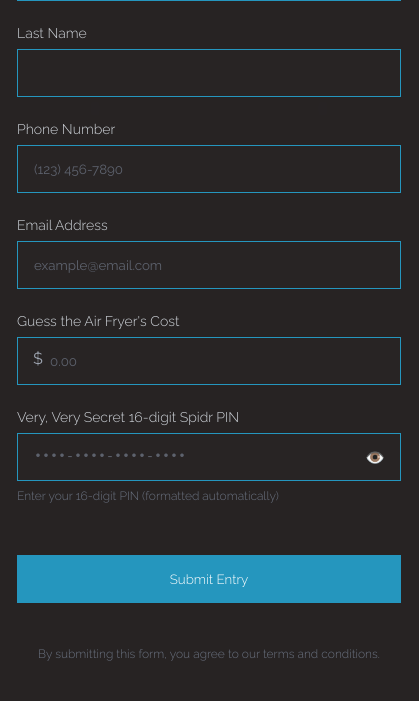
SpidrForm Component › Email Validation › clears email error when user starts typing
(page scrolled)
// First trigger the error
Click the button "Submit Entry". click: click(209, 579)
box: [17,555,401,603]
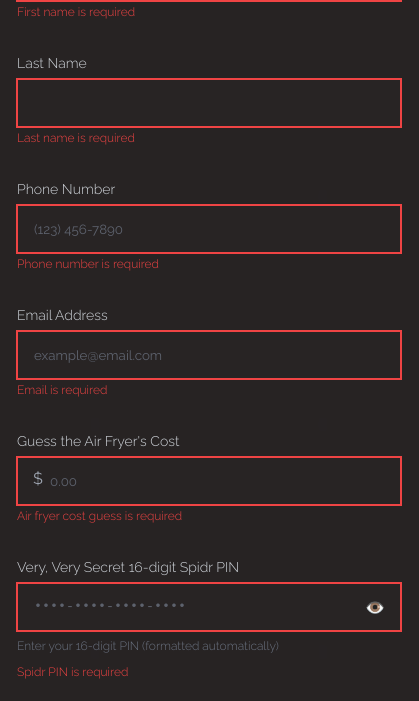
Now the text "Email is required" is shown, box [17,383,107,397]
// Then start typing to clear the error
Type "t" into the field labelled "Email Address". click: (209, 355)
box: [17,331,401,379]
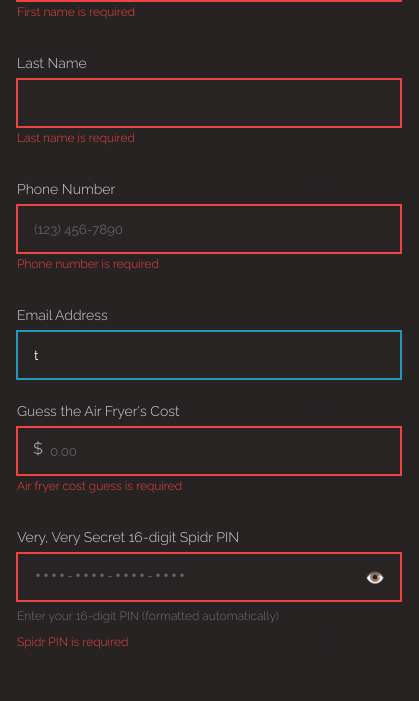
Now the text "Email is required" is gone
